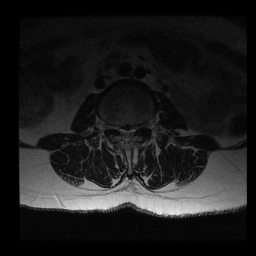CCS_stenosis: (124, 122, 129, 146)
LFS_stenosis: (136, 119, 142, 134)
LLS_stenosis: (129, 122, 135, 140)
RFS_stenosis: (112, 118, 118, 137)
RLS_stenosis: (118, 122, 124, 140)
